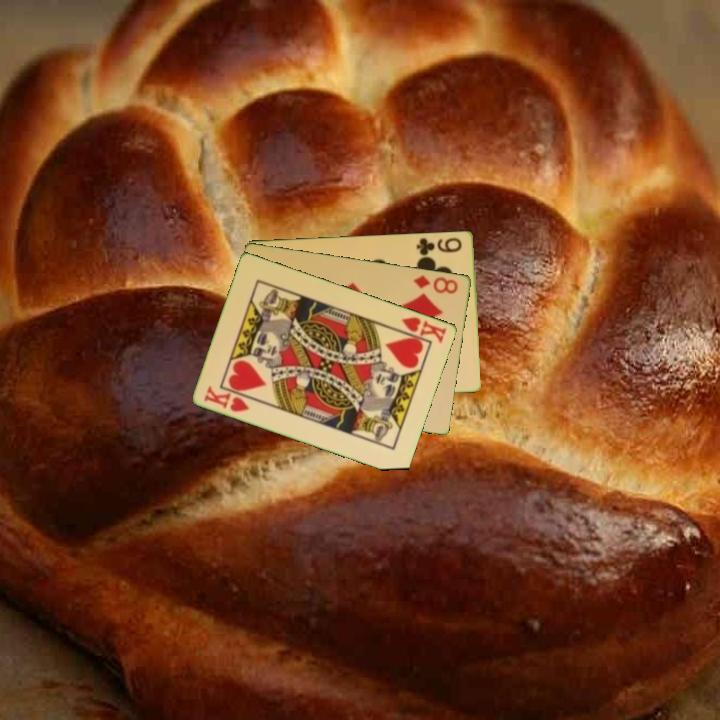8d: (410, 271, 461, 296)
9c: (413, 234, 465, 258)
Kh: (392, 313, 450, 346), (201, 382, 252, 415)
